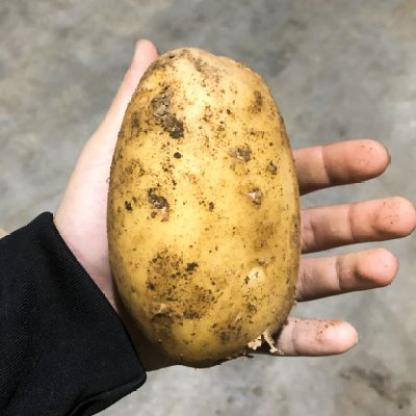potato: (101, 34, 306, 367)
